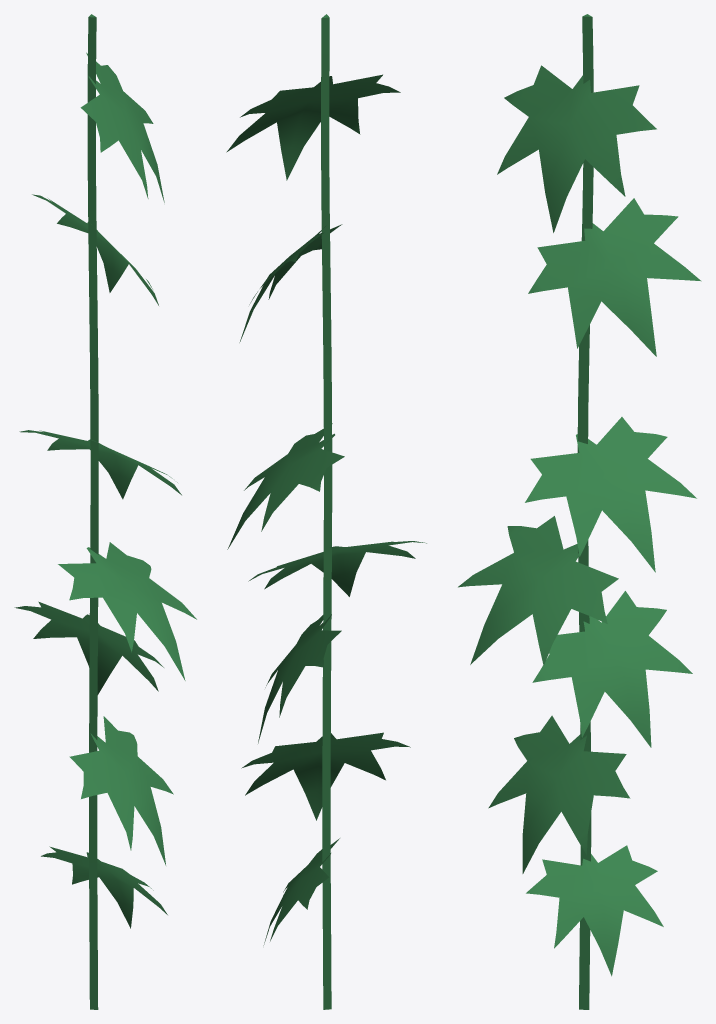
File: vine_E_alangium.fbx
3 views of the same model, side by side, from view 1: azimuth 30°, elevation 25°; view 2: azimuth 150°, elevation 25°; view 3: azimuth 270°, elevation 25° (orthographic).
Visible parts, largest first — view 1: vine_E_alangium_root, vine_E_alangium_leaf_B21, vine_E_alangium_leaf_B17, vine_E_alangium_leaf_B5, vine_E_alangium_leaf_B20, vine_E_alangium_leaf_B19, vine_E_alangium_leaf_B1, vine_E_alangium_leaf_B3; view 2: vine_E_alangium_root, vine_E_alangium_leaf_B5, vine_E_alangium_leaf_B17, vine_E_alangium_leaf_B1, vine_E_alangium_leaf_B20, vine_E_alangium_leaf_B21, vine_E_alangium_leaf_B19, vine_E_alangium_leaf_B3; view 3: vine_E_alangium_leaf_B3, vine_E_alangium_leaf_B5, vine_E_alangium_leaf_B1, vine_E_alangium_leaf_B21, vine_E_alangium_leaf_B20, vine_E_alangium_leaf_B17, vine_E_alangium_leaf_B19, vine_E_alangium_root.
Part boxes in pixels (<box>): vine_E_alangium_root: <box>87,14,98,1009</box>; vine_E_alangium_leaf_B21: <box>58,542,196,680</box>; vine_E_alangium_leaf_B17: <box>69,716,173,865</box>; vine_E_alangium_leaf_B5: <box>80,52,164,202</box>; vine_E_alangium_leaf_B20: <box>14,601,163,694</box>; vine_E_alangium_leaf_B19: <box>41,846,167,928</box>; vine_E_alangium_leaf_B1: <box>19,430,181,499</box>; vine_E_alangium_leaf_B3: <box>32,194,158,305</box>; vine_E_alangium_root: <box>321,14,332,1009</box>; vine_E_alangium_leaf_B5: <box>226,74,400,180</box>; vine_E_alangium_leaf_B17: <box>241,732,410,820</box>; vine_E_alangium_leaf_B1: <box>227,423,344,549</box>; vine_E_alangium_leaf_B20: <box>258,614,341,743</box>; vine_E_alangium_leaf_B21: <box>248,541,426,596</box>; vine_E_alangium_leaf_B19: <box>263,838,339,945</box>; vine_E_alangium_leaf_B3: <box>239,224,342,342</box>; vine_E_alangium_leaf_B3: <box>528,198,701,356</box>; vine_E_alangium_leaf_B5: <box>497,65,656,232</box>; vine_E_alangium_leaf_B1: <box>525,417,696,572</box>; vine_E_alangium_leaf_B21: <box>458,516,618,665</box>; vine_E_alangium_leaf_B20: <box>532,591,692,747</box>; vine_E_alangium_leaf_B17: <box>488,715,630,873</box>; vine_E_alangium_leaf_B19: <box>526,845,663,976</box>; vine_E_alangium_root: <box>577,14,593,1009</box>.
Size of the model in its own units: 36.81 by 233 by 51.98.
